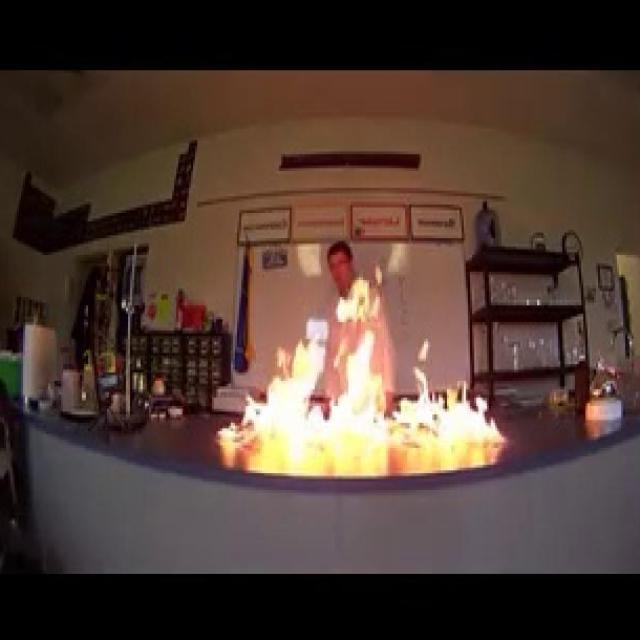smoke: (222, 327, 518, 448)
